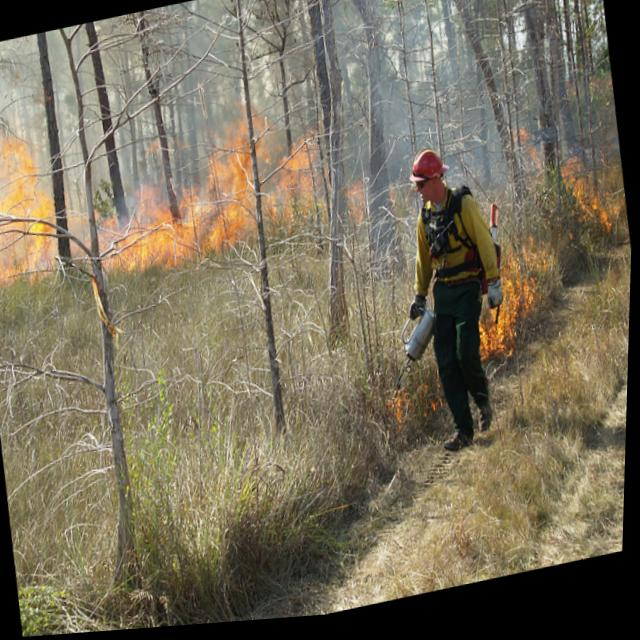Fire: (0, 43, 419, 320), (447, 101, 637, 379), (378, 372, 454, 446)
